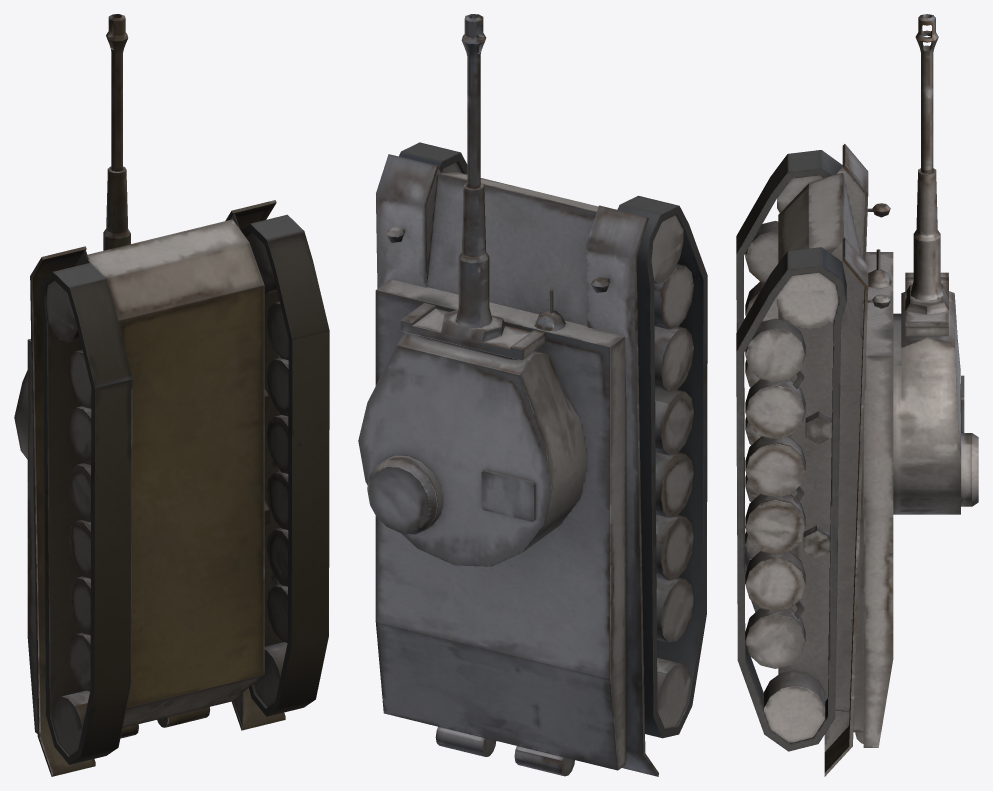
3 renders of one model, left to right at view 1: azimuth 30°, elevation 25°; view 2: azimuth 150°, elevation 25°; view 3: azimuth 270°, elevation 25°, orthographic. The views are drawn at different scales.
Visible parts, largest first — view 1: VK3001P Body, VK3001P Turret; view 2: VK3001P Body, VK3001P Turret; view 3: VK3001P Body, VK3001P Turret.
Part boxes in pixels (x1=…): VK3001P Body: x1=27, y1=200, x2=329, y2=776; VK3001P Turret: x1=14, y1=14, x2=130, y2=459; VK3001P Body: x1=375, y1=142, x2=707, y2=776; VK3001P Turret: x1=358, y1=14, x2=587, y2=566; VK3001P Body: x1=736, y1=144, x2=893, y2=776; VK3001P Turret: x1=893, y1=14, x2=978, y2=514.
Bounding box in the file's own units: 118 × 335 × 105.
